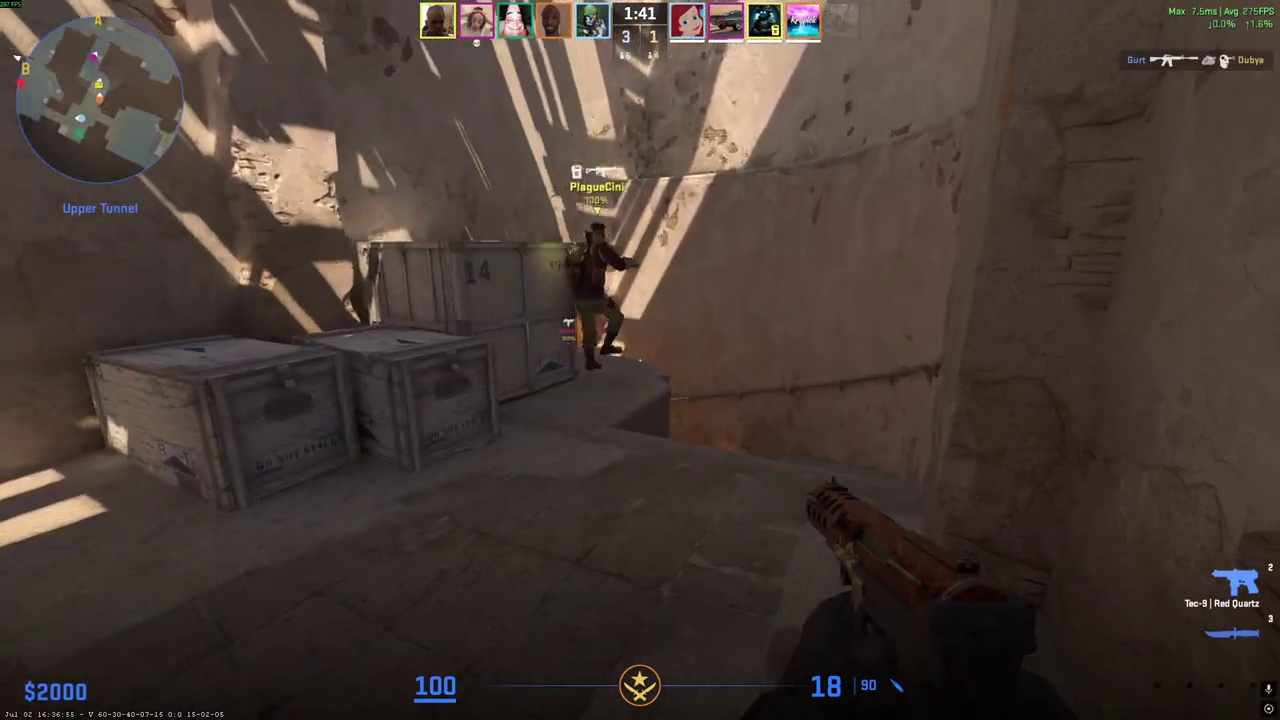Terrorist: (571, 223, 623, 369)
